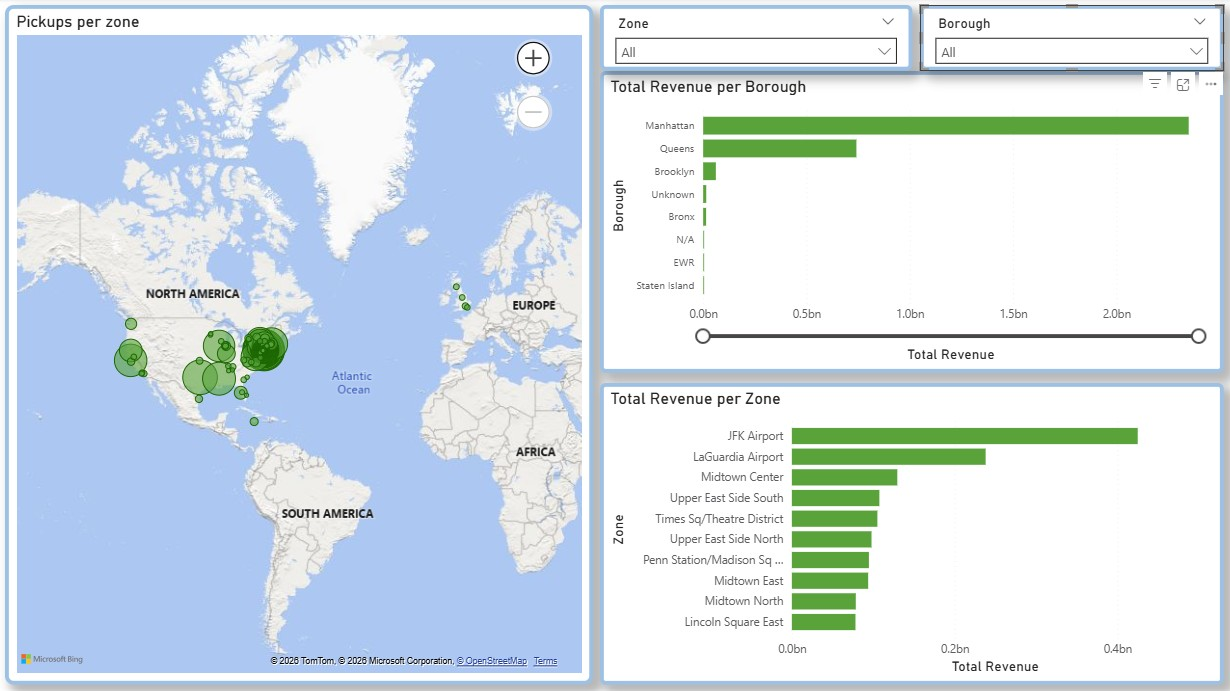

This screenshot's page, from the dashboard's own definition file:
{"tool":"powerbi","page":{"name":"Location Intelligence","canvas":[1280,720],"ordinal":2},"visuals":[{"type":"map","title":"Pickups per zone","fields":{"Category":["DIM_TAXI_ZONE.Zone"],"Size":["Sum(VW_NYC_GOLD_LOCATION_STATS.TOTAL_PICKUPS)"]},"box":[10,0,633,705.5],"z":0},{"type":"clusteredBarChart","title":"Total Revenue per Borough","fields":{"Category":["DIM_TAXI_ZONE.Borough"],"Y":["Sum(VW_NYC_GOLD_LOCATION_STATS.TOTAL_REVENUE)"]},"box":[649.6,0,622.2,348],"z":1000},{"type":"clusteredBarChart","title":"Total Revenue per Zone","fields":{"Y":["Sum(VW_NYC_GOLD_LOCATION_STATS.TOTAL_REVENUE)"],"Category":["DIM_TAXI_ZONE.Zone"]},"box":[649.6,352.6,622.2,352.6],"z":2000}]}

Visuals, with their boxes in screenshot pixels (x1, y1, x2, y2), scaled from the page's 1280x720 canvas onto the 1230x691 screenshot:
"Pickups per zone" map: [left=10, top=0, right=618, bottom=677]
"Total Revenue per Borough" clusteredBarChart: [left=624, top=0, right=1222, bottom=334]
"Total Revenue per Zone" clusteredBarChart: [left=624, top=338, right=1222, bottom=677]
